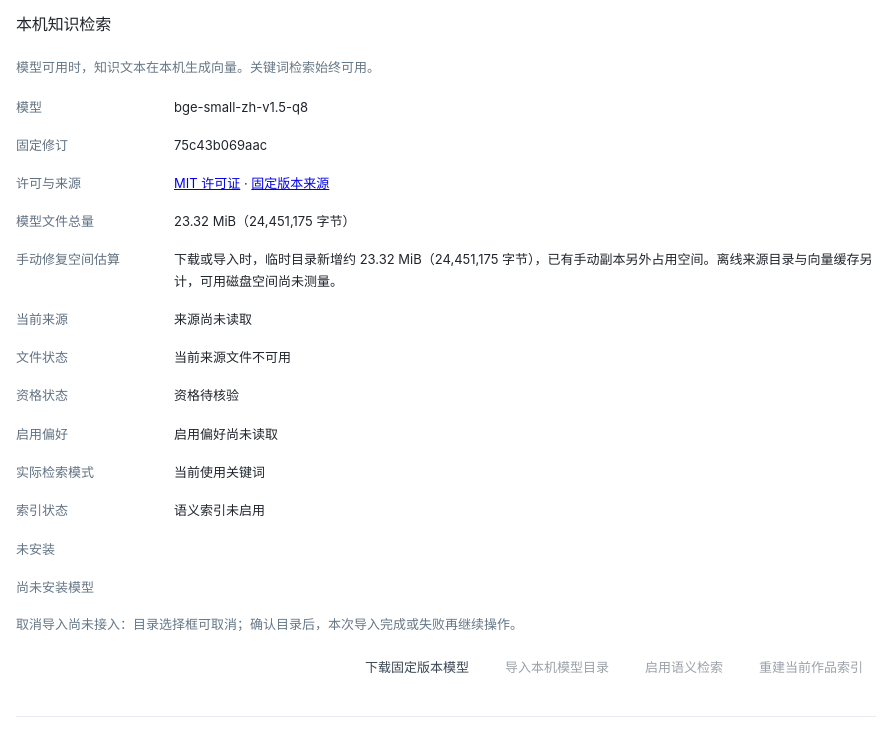
Test case: 下载完成后忽略迟到的进度回执，未资格模型仍禁止启用
Check: the text "尚未安装模型" is shown, box [16,578,94,594]
Click the button "下载固定版本模型" at (417, 667), box [352,650,482,684]
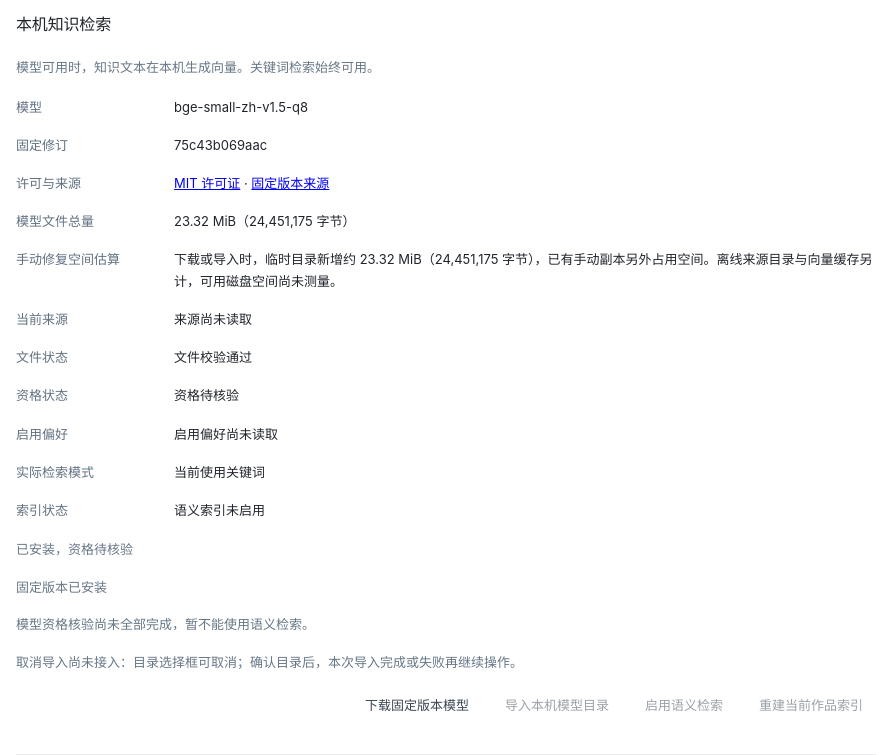
Check: the button "启用语义检索" is disabled, box [632,688,736,722]
Check: the text "固定版本已安装" is shown, box [16,578,107,594]
Check: the text "已安装，资格待核验" is shown, box [16,541,133,557]
